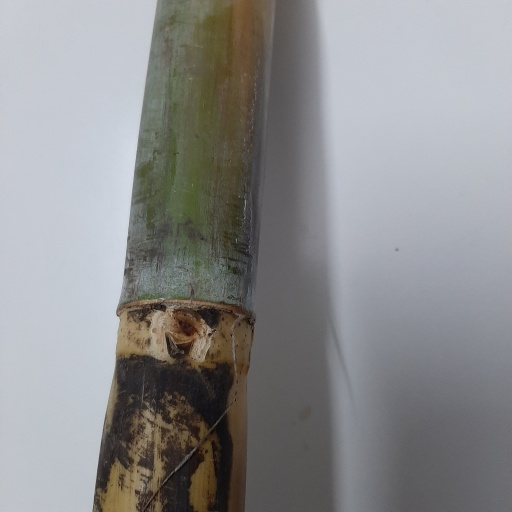Damage_Bud: (167, 309, 205, 355)
